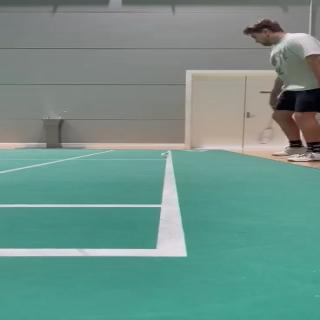Shuttle: (160, 152, 170, 158)
